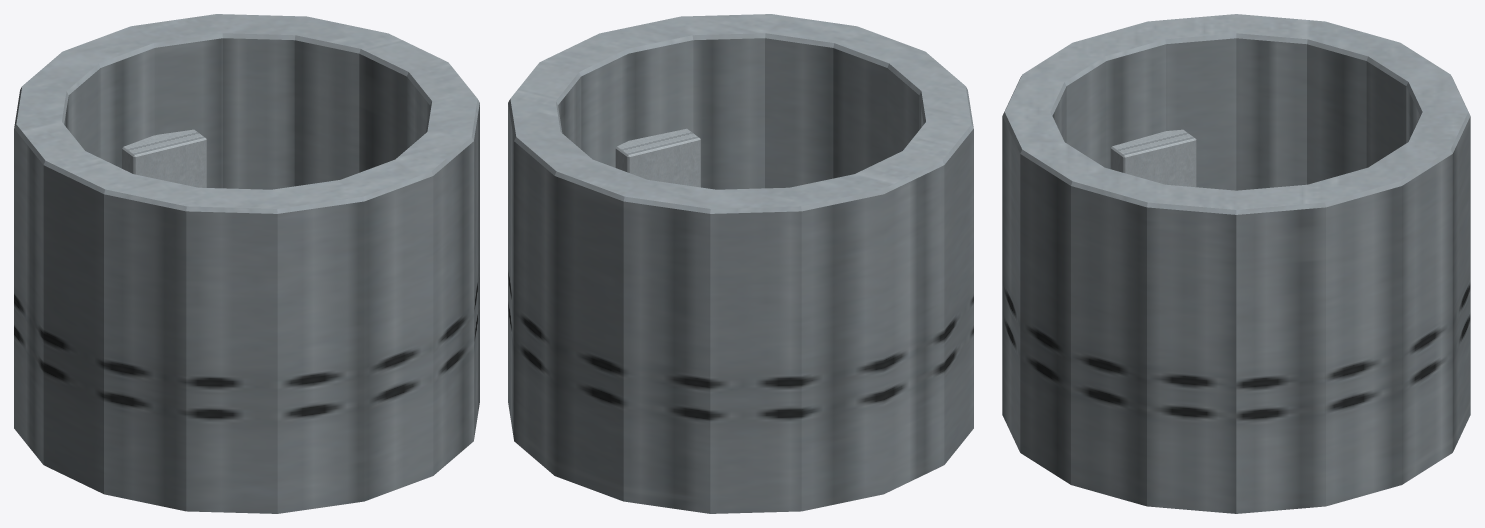
File: washer_drum.glb
The picture shows the model from 3 angles, left to right: view 1: azimuth 30°, elevation 25°; view 2: azimuth 150°, elevation 25°; view 3: azimuth 270°, elevation 25°; orthographic projection.
Parts seen in each view (by area): view 1: core_washer_drum; view 2: core_washer_drum; view 3: core_washer_drum.
Boxes of the visible parts, left/top/right/bottom form: core_washer_drum: left=14, top=14, right=479, bottom=513; core_washer_drum: left=508, top=14, right=973, bottom=513; core_washer_drum: left=1002, top=14, right=1470, bottom=513.
Bounding box in the file's own units: 0.42 × 0.3 × 0.42.
Materials: 1 (1 with a texture image).
